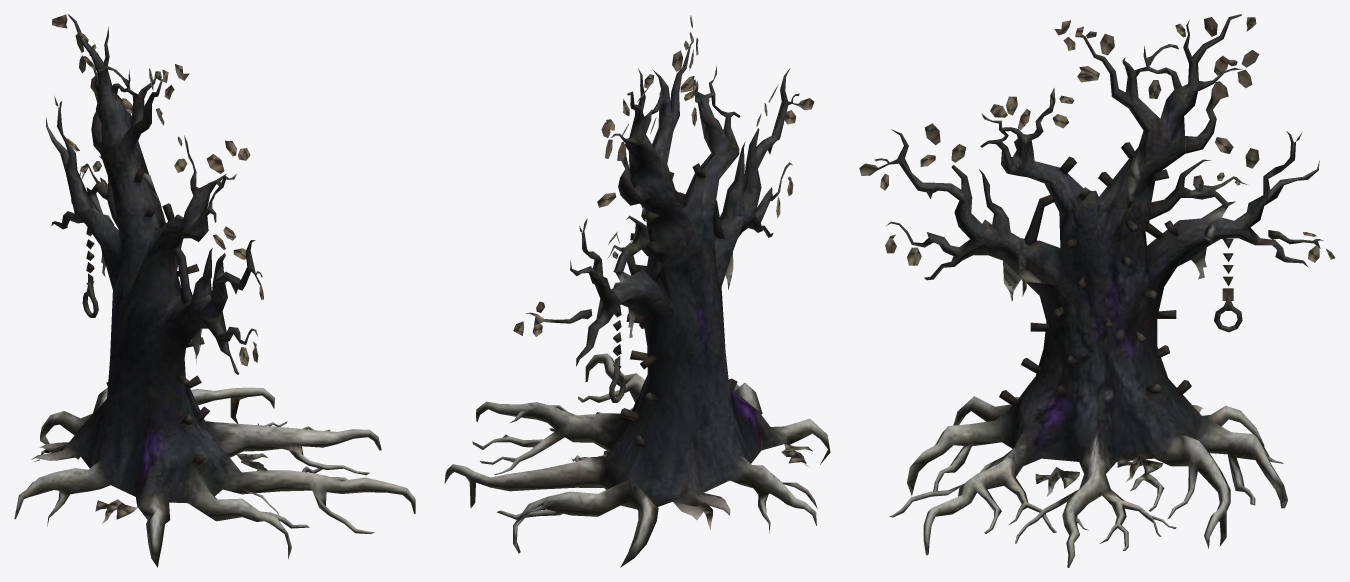
File: prop_node_coffin_oak.glb
The picture shows the model from 3 angles, left to right: view 1: azimuth 30°, elevation 25°; view 2: azimuth 150°, elevation 25°; view 3: azimuth 270°, elevation 25°; orthographic projection. The views are drawn at different scales.
Visible parts, largest first — view 1: tripo_node_b2d88810-2216-47ac-88fc-502b80acb69a; view 2: tripo_node_b2d88810-2216-47ac-88fc-502b80acb69a; view 3: tripo_node_b2d88810-2216-47ac-88fc-502b80acb69a.
Boxes of the visible parts, x1,y1,x2,y2 form: tripo_node_b2d88810-2216-47ac-88fc-502b80acb69a: [14, 14, 415, 567]; tripo_node_b2d88810-2216-47ac-88fc-502b80acb69a: [444, 15, 830, 567]; tripo_node_b2d88810-2216-47ac-88fc-502b80acb69a: [859, 14, 1335, 567].
Bounding box in the file's own units: 0.8066 × 0.998 × 0.9394.
1 material, 1 textured.
